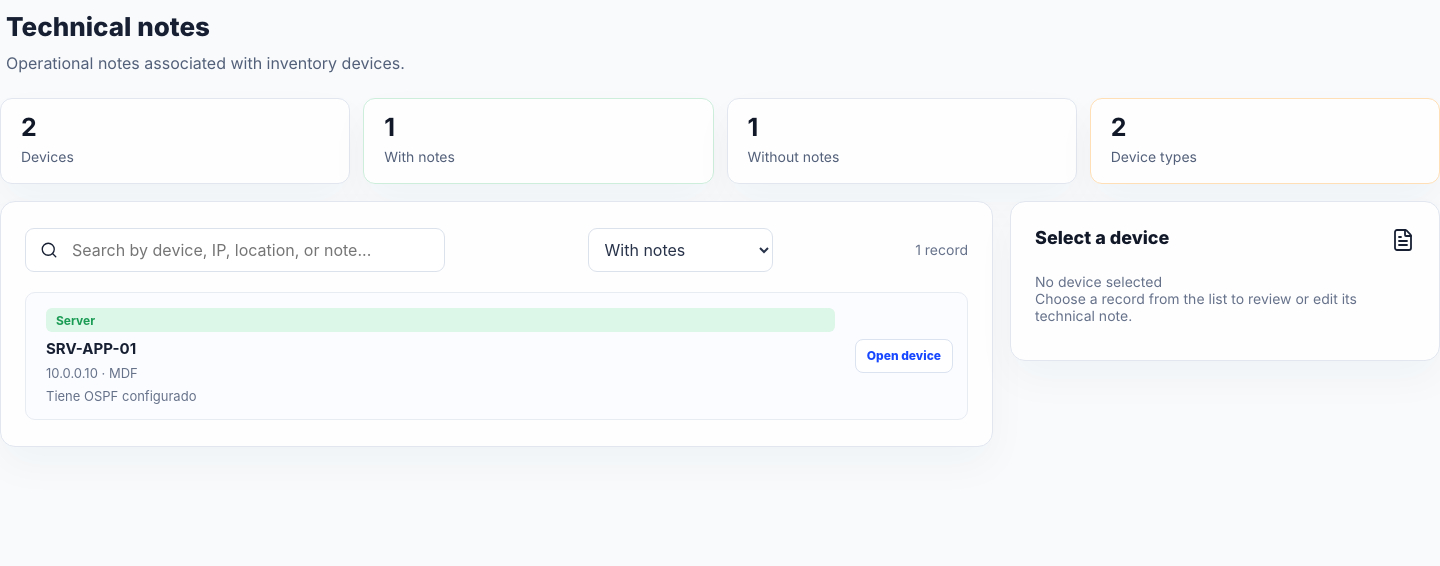
Test: NotesView › saves notes with CSRF and refreshes inventory
The width and height of the screenshot is (1440, 566).
Click the button "Server SRV-APP-01 10.0.0.10 · MDF Tiene OSPF configurado" at (440, 320), box x1=40 y1=307 x2=841 y2=405
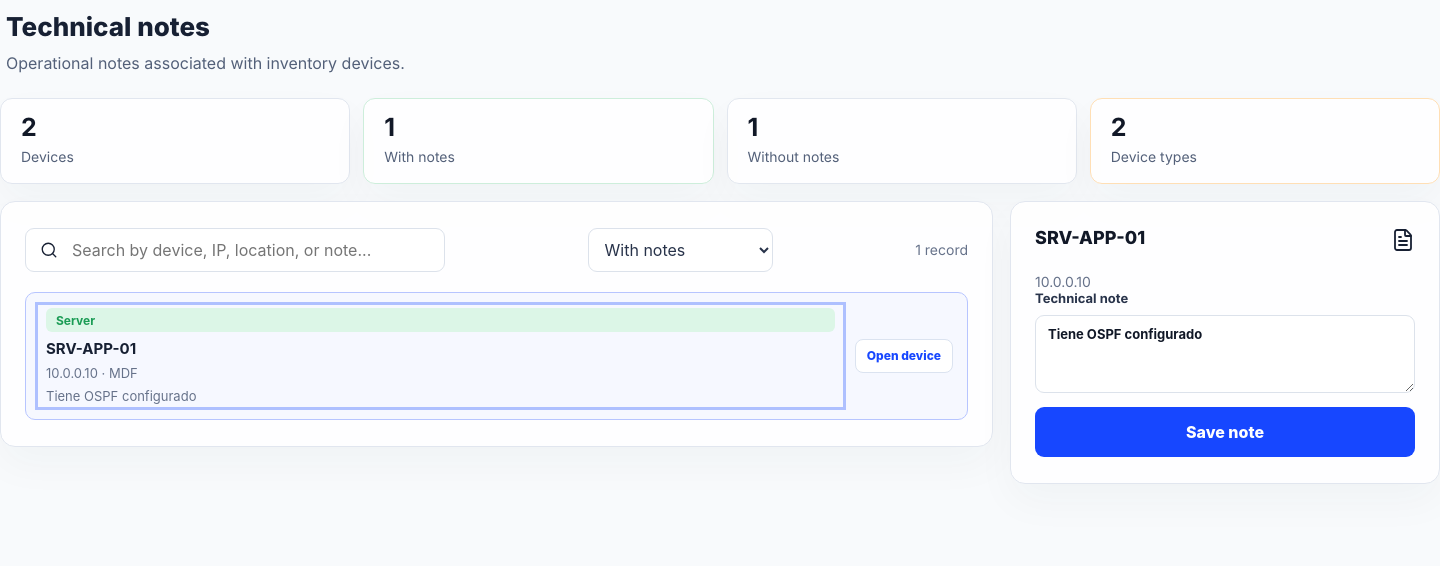
Replace the text in the text box labelled "Technical note" with "Nueva nota técnica" at (1225, 354), box x1=1035 y1=315 x2=1415 y2=393
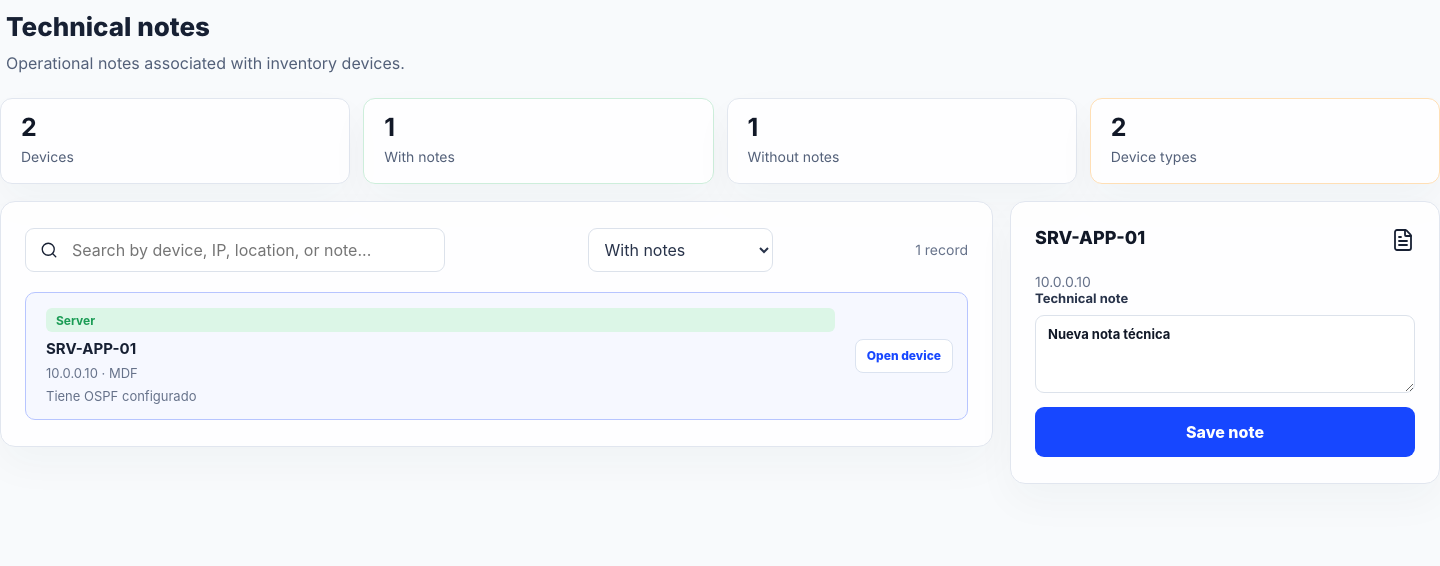
Click the button "Save note" at (1225, 432), box x1=1035 y1=407 x2=1415 y2=457
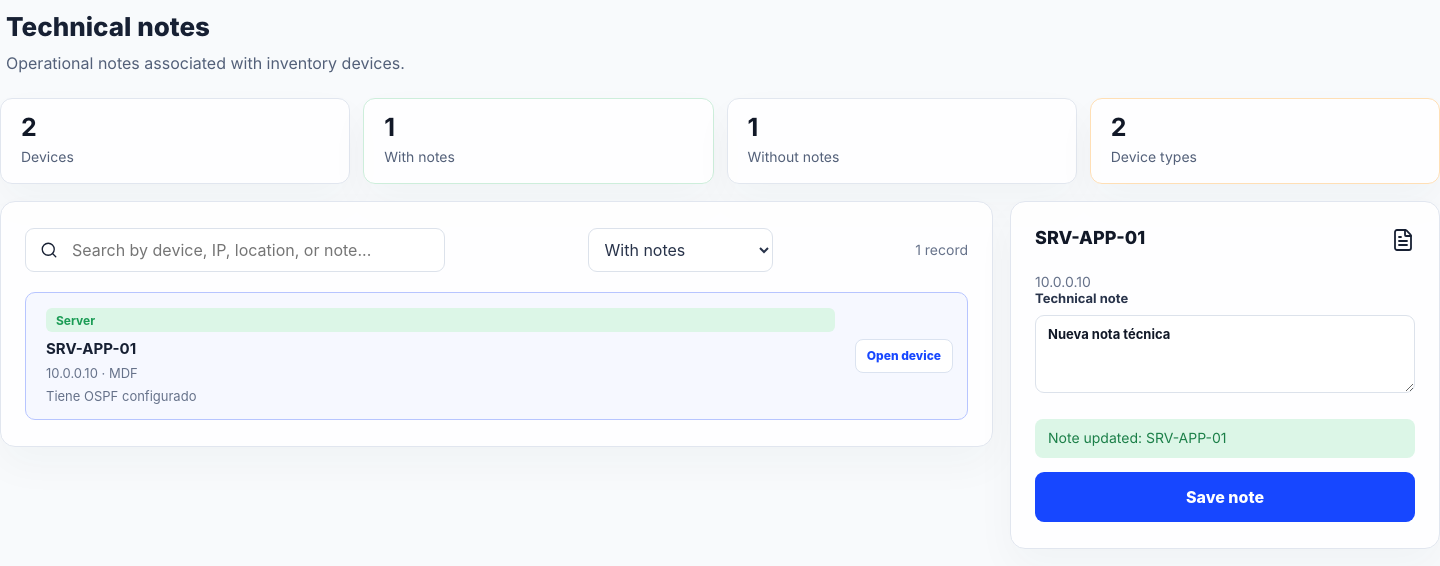
expect the text "Note updated: SRV-APP-01" is shown: met, box x1=1035 y1=419 x2=1415 y2=458
